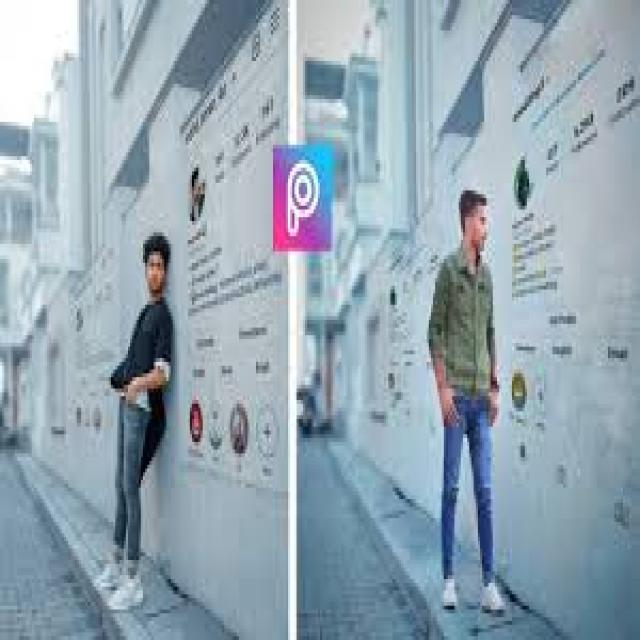Edited images: (413, 175, 522, 628)
